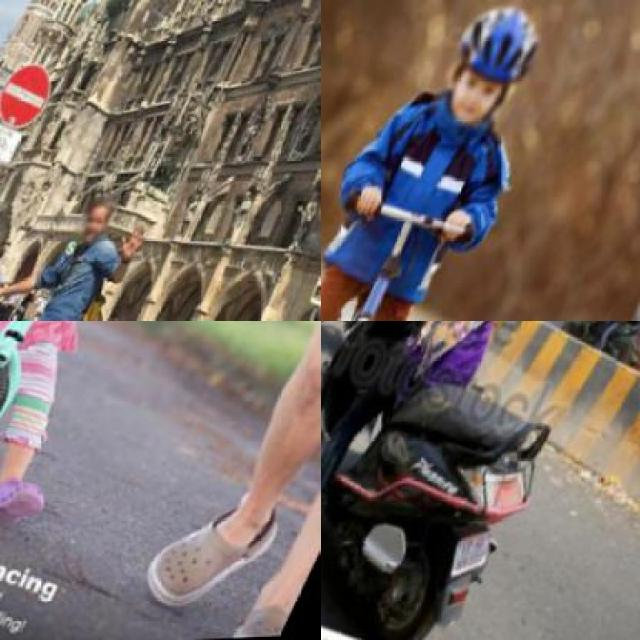With Helmet: (424, 0, 564, 151)
Without Helmet: (76, 193, 132, 253)
